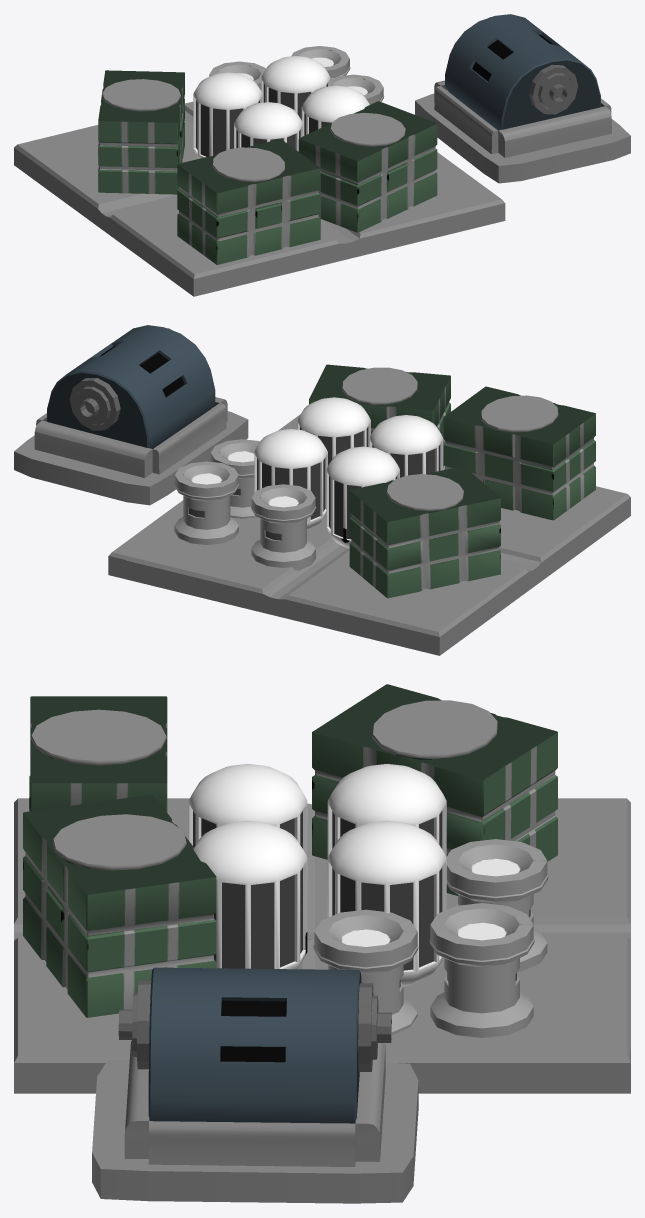
Rendered from Estructura_02.fbx.
The picture shows the model from 3 angles, top to bottom: view 1: azimuth 30°, elevation 25°; view 2: azimuth 150°, elevation 25°; view 3: azimuth 270°, elevation 25°; orthographic projection. The views are drawn at different scales.
Visible parts, largest first — view 1: Caja contenedora, Generador Pequeño, Plataforma, Contenedor v2.001, Tubo de energia, Tubo de energia.001, Tubo de energia.002; view 2: Caja contenedora, Plataforma, Generador Pequeño, Contenedor v2.001, Tubo de energia.002, Tubo de energia, Tubo de energia.001; view 3: Caja contenedora, Generador Pequeño, Plataforma, Contenedor v2.001, Tubo de energia, Tubo de energia.001, Tubo de energia.002.
Boxes of the visible parts, x1,y1,x2,y2 form: Caja contenedora: (98, 70, 437, 264); Generador Pequeño: (415, 14, 630, 183); Plataforma: (14, 101, 505, 296); Contenedor v2.001: (193, 56, 369, 158); Tubo de energia: (291, 46, 350, 79); Tubo de energia.001: (330, 74, 384, 104); Tubo de energia.002: (209, 61, 265, 90); Caja contenedora: (309, 364, 595, 598); Plataforma: (108, 414, 630, 655); Generador Pequeño: (14, 325, 248, 505); Contenedor v2.001: (254, 397, 443, 548); Tubo de energia.002: (251, 484, 316, 570); Tubo de energia: (174, 461, 239, 544); Tubo de energia.001: (210, 439, 259, 518); Caja contenedora: (23, 684, 557, 1017); Generador Pequeño: (92, 967, 418, 1203); Plataforma: (14, 798, 630, 1093); Contenedor v2.001: (188, 764, 446, 986); Tubo de energia: (429, 903, 534, 1037); Tubo de energia.001: (313, 909, 418, 1034); Tubo de energia.002: (446, 839, 548, 971).
Bounding box in the file's own units: 1352 × 303 × 900.
Materials: 5 (5 with a texture image).
